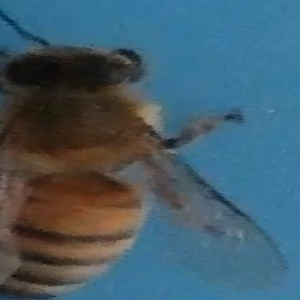bee: (3, 13, 290, 300)
